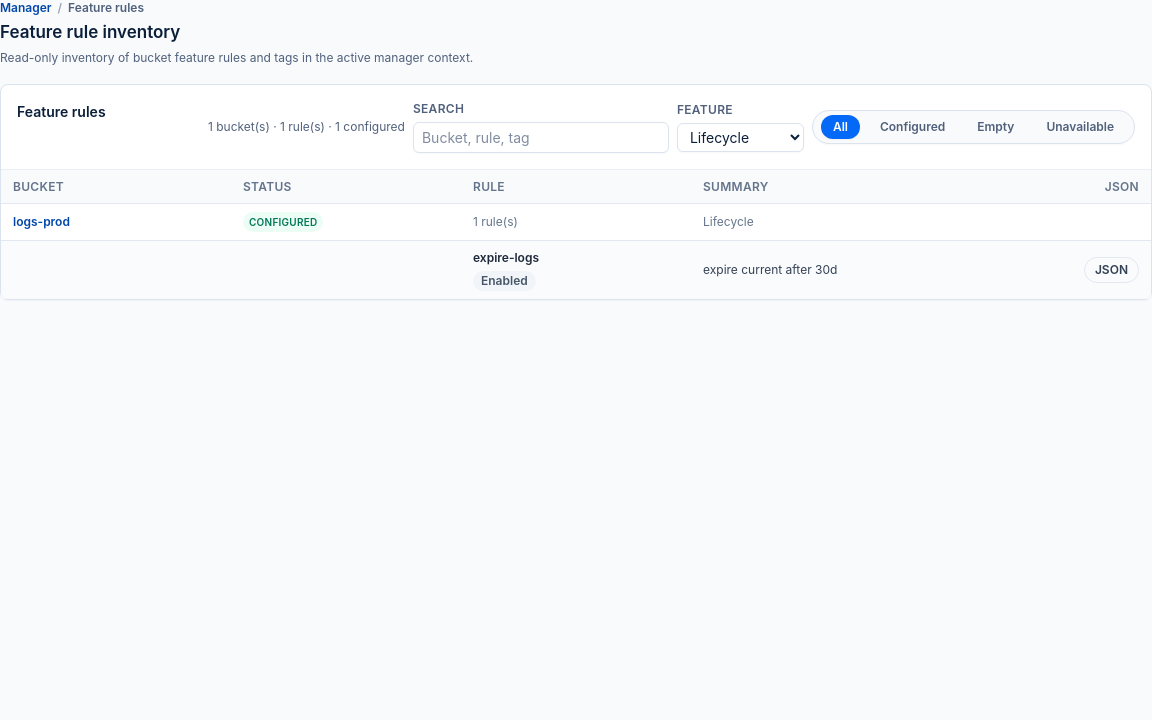
Test: ManagerFeatureRulesPage › opens the raw rule JSON in a modal
Expected: the text "expire-logs" is shown, [473, 250, 539, 265]
Click the button "JSON" at {"x": 1111, "y": 270}, box [1084, 257, 1139, 283]
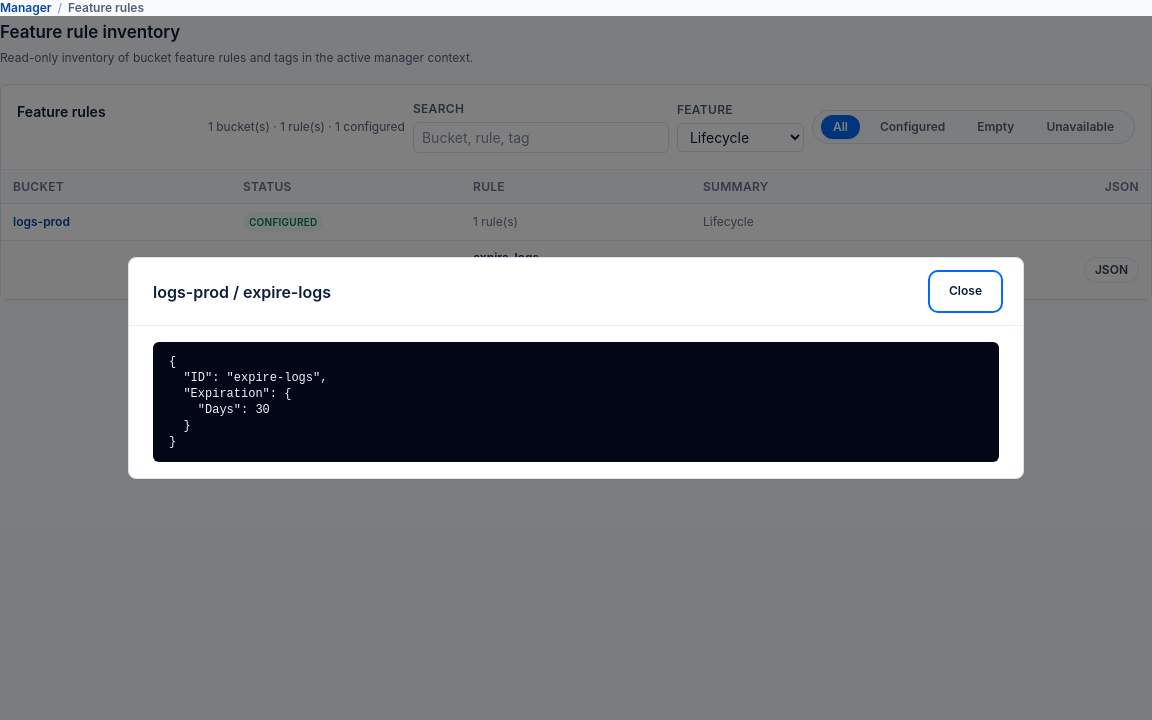
Now the dialog is shown, box [128, 257, 1024, 479]
Now the text "{ \"ID\": \"expire-logs\", \"Expiration\": { \"Days\": 30 } }" is shown, box [153, 342, 999, 462]
